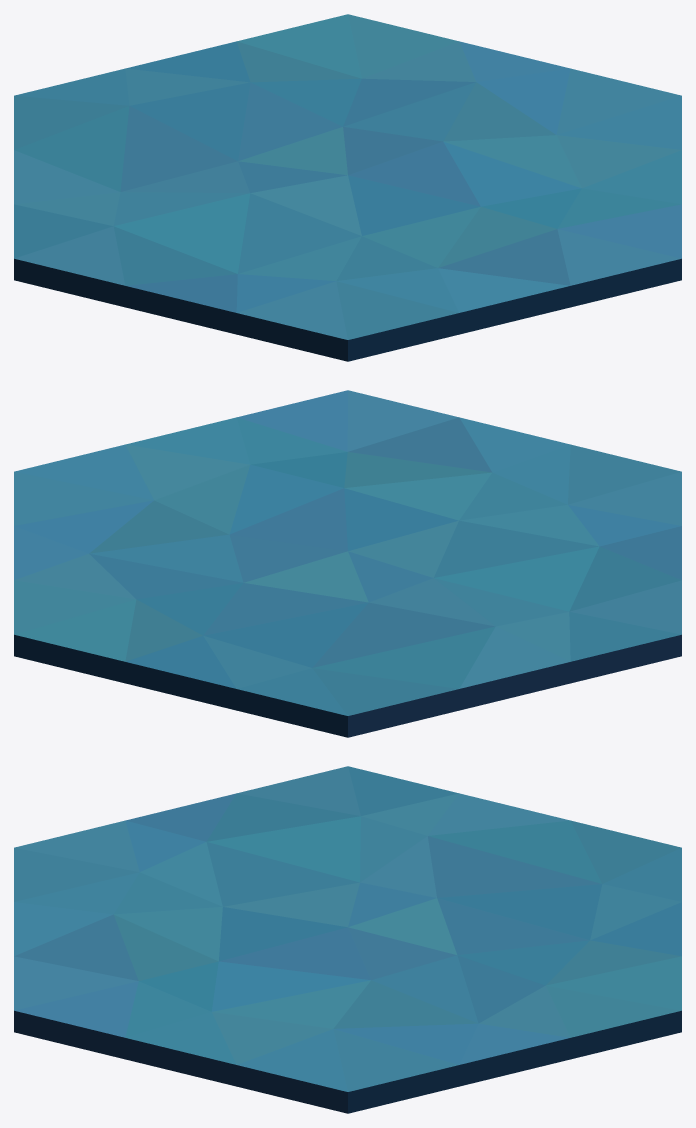
Rendered from Coast2.glb.
The picture shows the model from 3 angles, top to bottom: view 1: azimuth 30°, elevation 25°; view 2: azimuth 150°, elevation 25°; view 3: azimuth 270°, elevation 25°; orthographic projection.
Parts seen in each view (by area): view 1: Coast2; view 2: Coast2; view 3: Coast2.
Boxes of the visible parts, x1,y1,x2,y2 form: Coast2: [14, 14, 681, 361]; Coast2: [14, 390, 681, 737]; Coast2: [14, 766, 681, 1113].
Size of the model in its own units: 1.94 by 0.0653 by 1.68.
